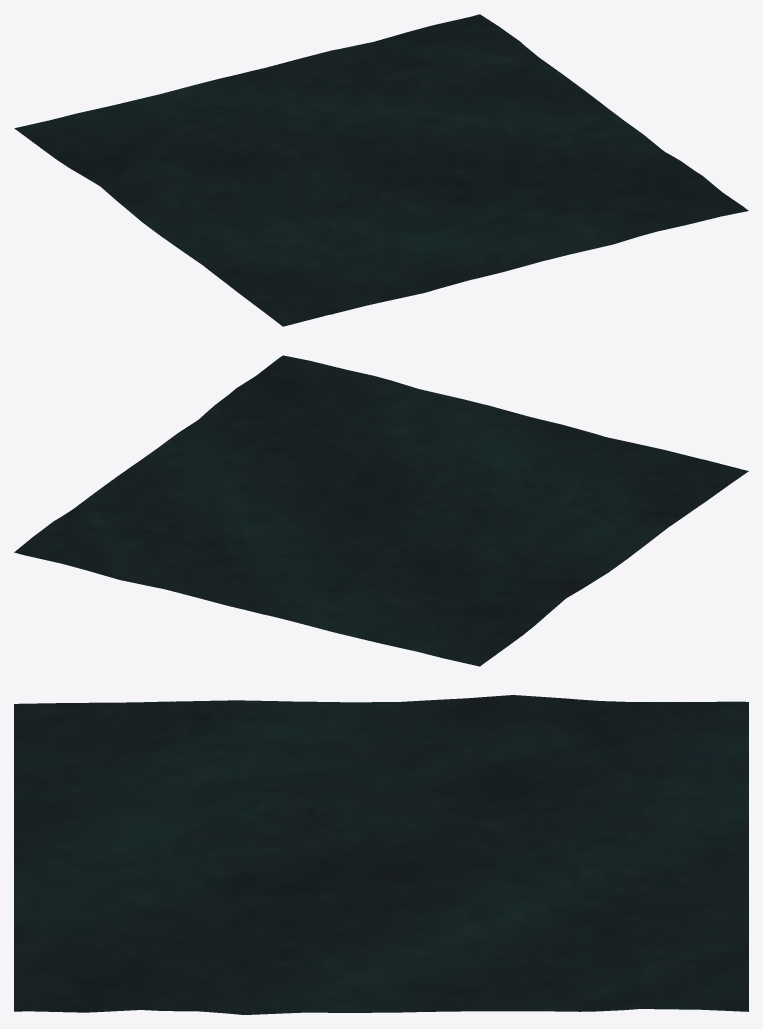
3 views of the same model, one above another, from view 1: azimuth 30°, elevation 25°; view 2: azimuth 150°, elevation 25°; view 3: azimuth 270°, elevation 25° (orthographic). The views are drawn at different scales.
Bounding box in the file's own units: 52.22 × 0.7713 × 52.22.
2 materials, 2 textured.
